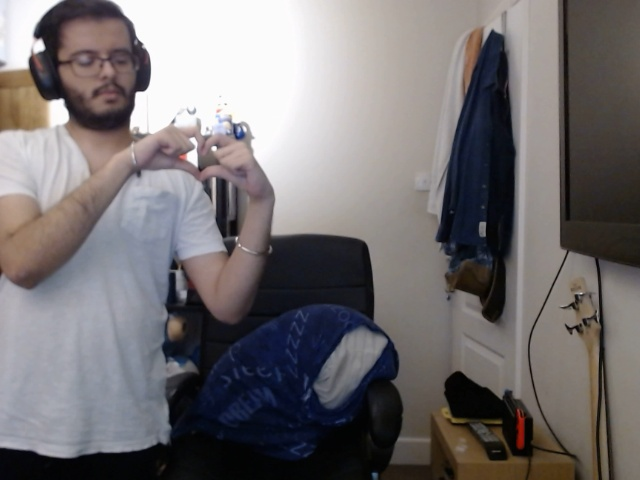Heart: (128, 120, 264, 193)
